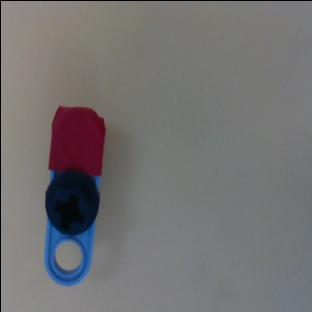part_1_good: (37, 103, 106, 286)
